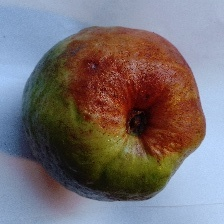guava: (12, 47, 168, 188)
